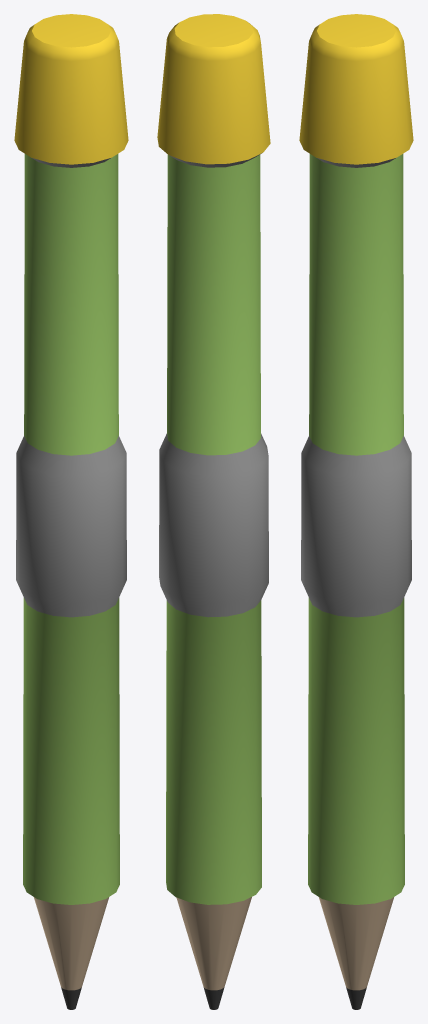
File: Pen01.fbx
The picture shows the model from 3 angles, left to right: view 1: azimuth 90°, elevation 25°; view 2: azimuth 150°, elevation 25°; view 3: azimuth 270°, elevation 25°; orthographic projection.
Parts seen in each view (by area): view 1: Pen01; view 2: Pen01; view 3: Pen01.
Boxes of the visible parts, x1,y1,x2,y2 form: Pen01: (14,14,128,1009); Pen01: (157,14,270,1009); Pen01: (299,14,413,1009).
Bounding box in the file's own units: 0.0125 × 0.0125 × 0.1186.
